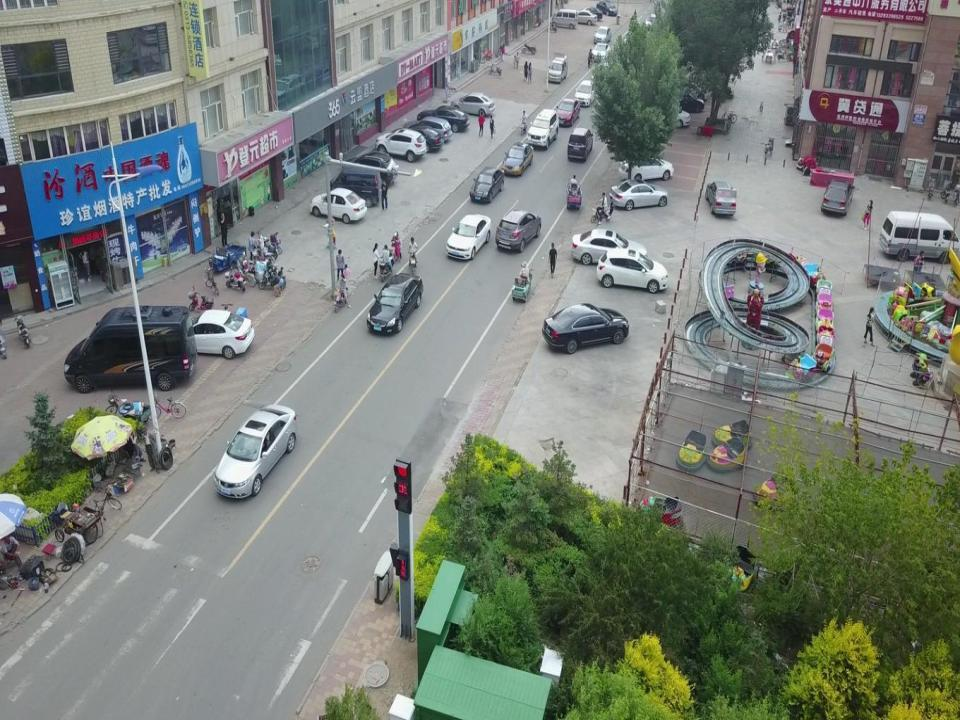car: (214, 404, 298, 499), (542, 303, 630, 353), (174, 308, 255, 360), (366, 272, 423, 333), (596, 248, 668, 292), (570, 228, 648, 264), (446, 214, 492, 260), (310, 187, 367, 224), (342, 150, 397, 187), (495, 210, 541, 252), (609, 179, 669, 210), (376, 128, 426, 165), (618, 156, 674, 184), (392, 124, 444, 154), (417, 105, 470, 133), (526, 107, 559, 149), (469, 166, 505, 203), (820, 178, 854, 216), (404, 117, 452, 143), (450, 92, 496, 117), (501, 142, 534, 176), (704, 182, 736, 217), (669, 92, 705, 114), (654, 106, 690, 127), (556, 98, 580, 126), (574, 79, 596, 106), (592, 42, 612, 62), (573, 10, 597, 26), (596, 0, 618, 17), (578, 6, 604, 20), (593, 26, 612, 44), (645, 13, 657, 32)
van: (63, 306, 197, 393), (879, 210, 960, 262), (329, 168, 382, 208), (568, 127, 594, 161), (548, 52, 568, 84), (551, 9, 578, 29)
